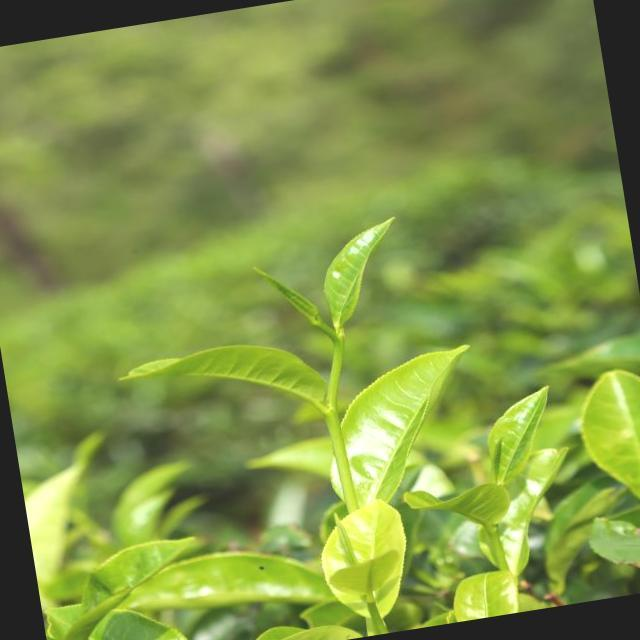Stem: (334, 344, 344, 356)
